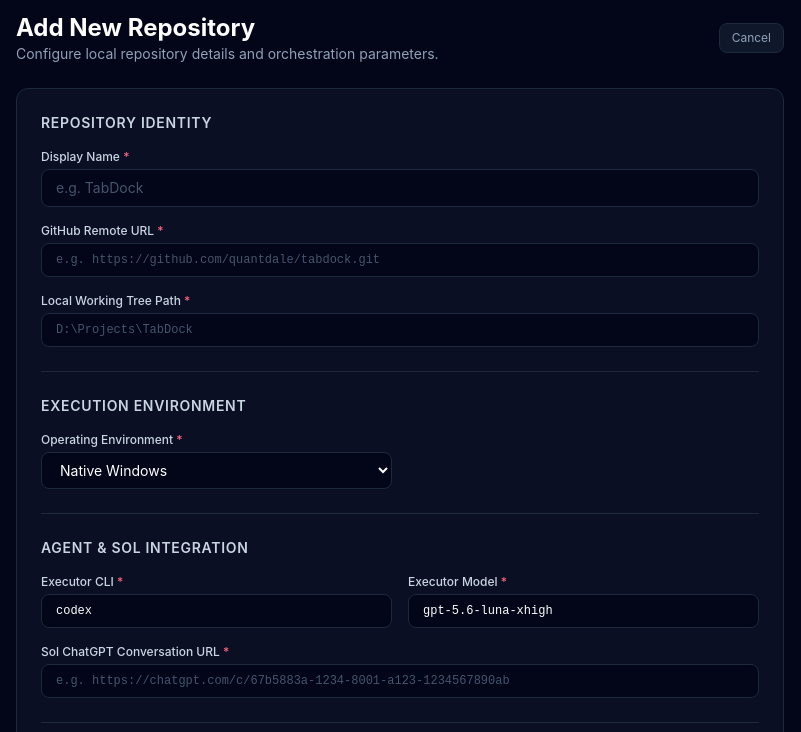
Test case: Repository UI & UX (Tests 8) › 8.T3 Windows and WSL form behavior toggles WSL distribution field
Note: Select WSL
Select "WSL (Windows Subsystem for Linux)" in the dropdown with test id "select-environment" at [216, 470], box [41,452,392,489]
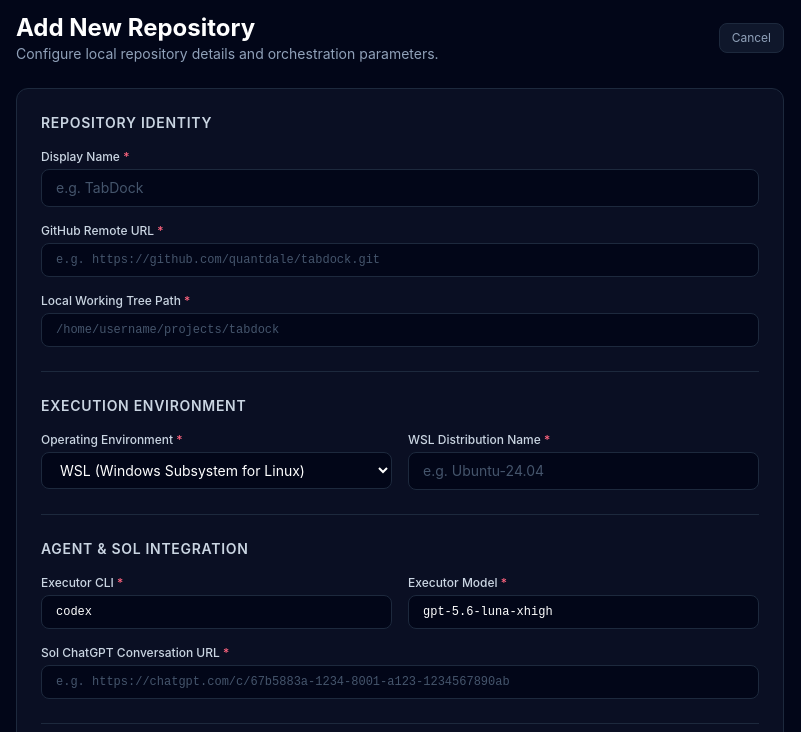
Expected: the field with test id "input-wslDistribution" is shown, [408,452,759,490]
